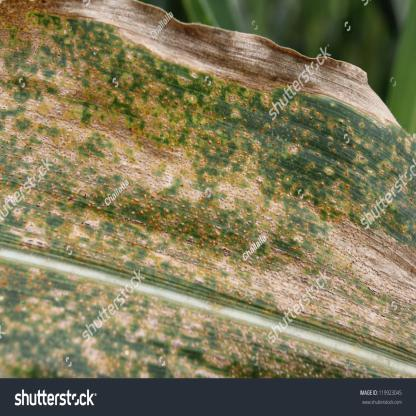corn rust leaf: (1, 1, 415, 377)
